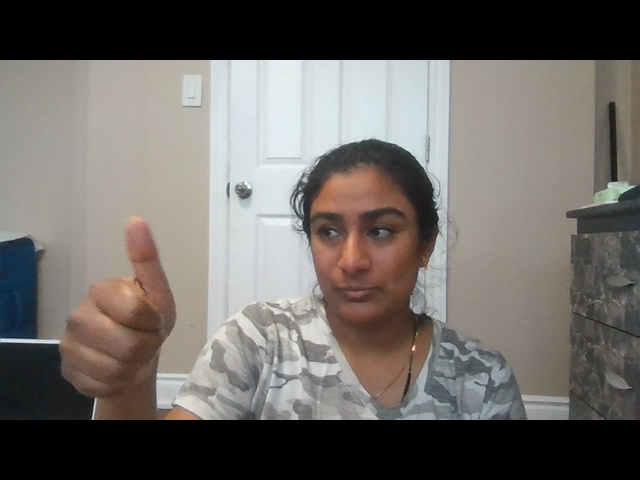yes: (58, 213, 179, 400)
